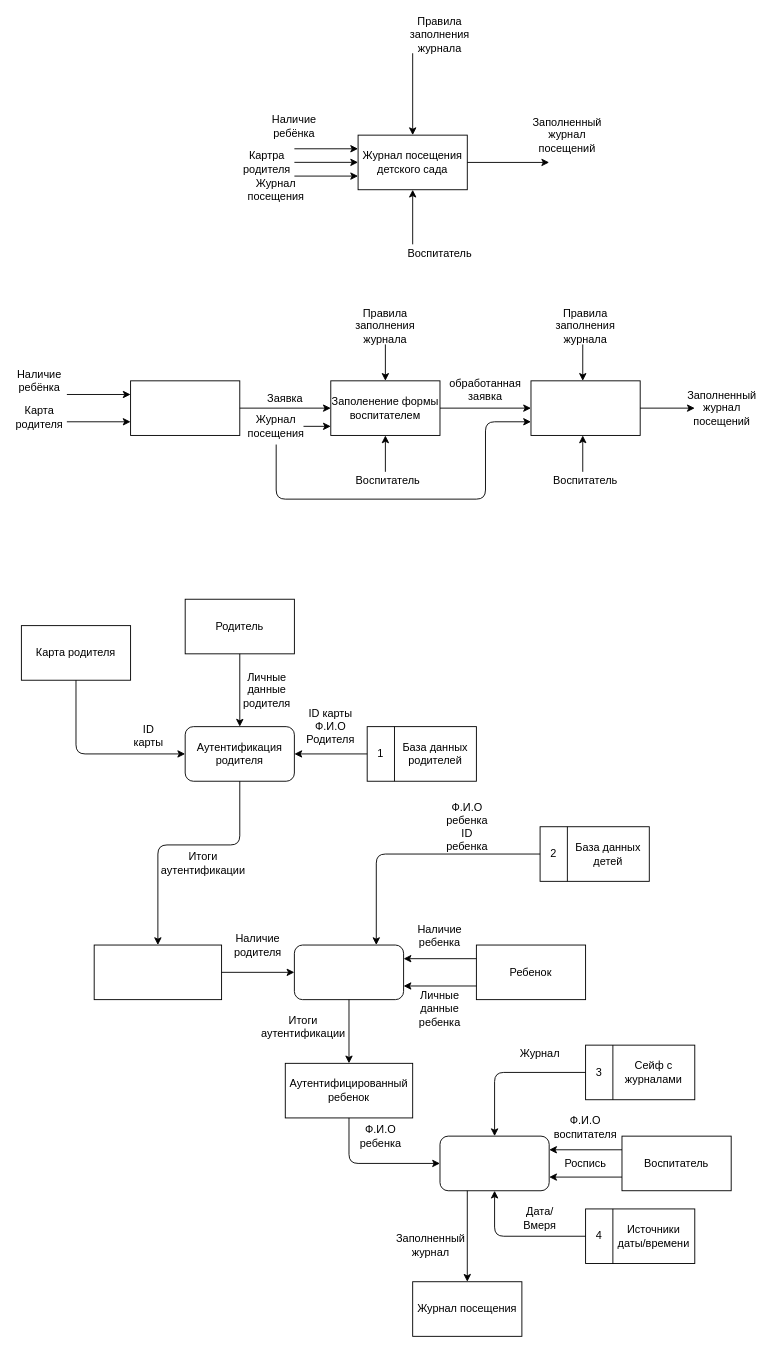
Some shapes in this 772 by 1352 pixel diagram are drawn without their labels. The centre of each missing label's shape, as x and y in pixels:
"Аутентефицированный родитель" goes at point (157, 972).
"Аутентификация ребенка" goes at point (348, 972).
"Заполнение журнала посещения" goes at point (494, 1163).
"Прикладывание карты родителем" goes at point (185, 407).
"Сравнение идентичности заполненных форм" goes at point (585, 407).
